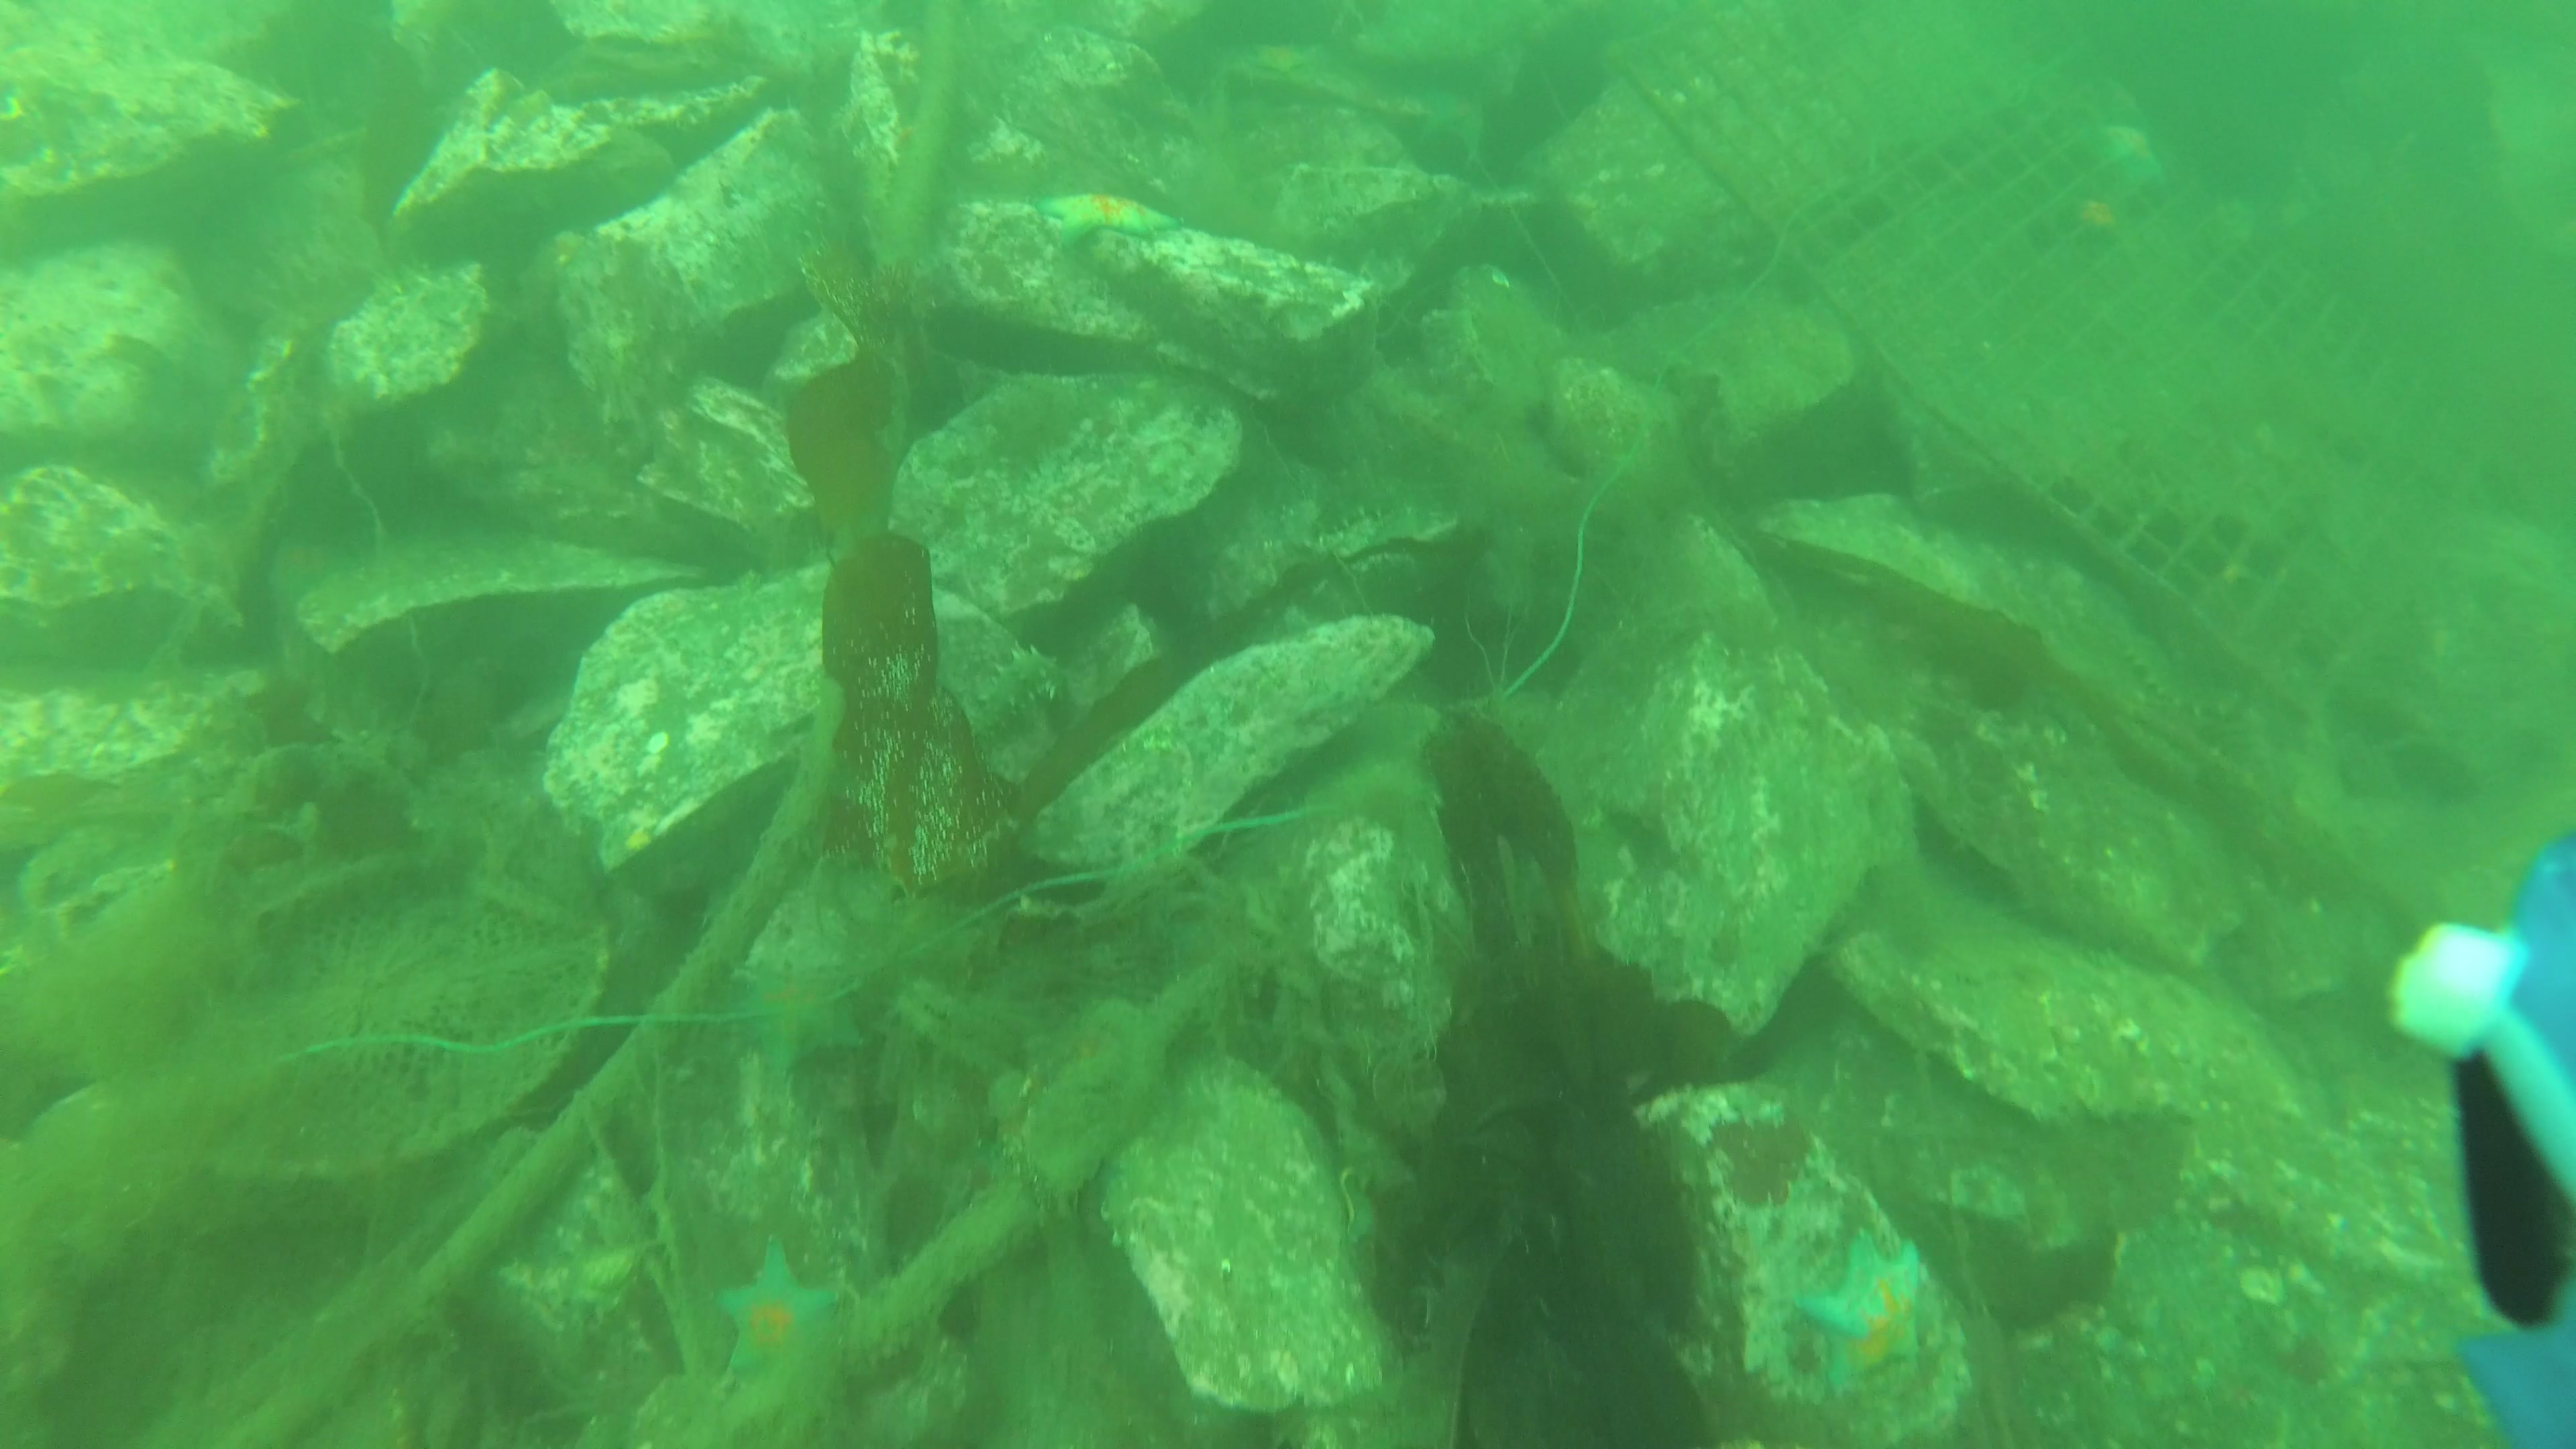holothurian: (955, 648, 1065, 750)
starfish: (1789, 1228, 1930, 1401), (702, 1237, 853, 1387), (725, 970, 874, 1077), (1024, 188, 1187, 255), (2100, 111, 2173, 209)
